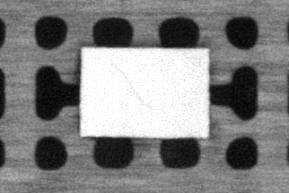DIE_CRACK: (111, 61, 153, 110)
